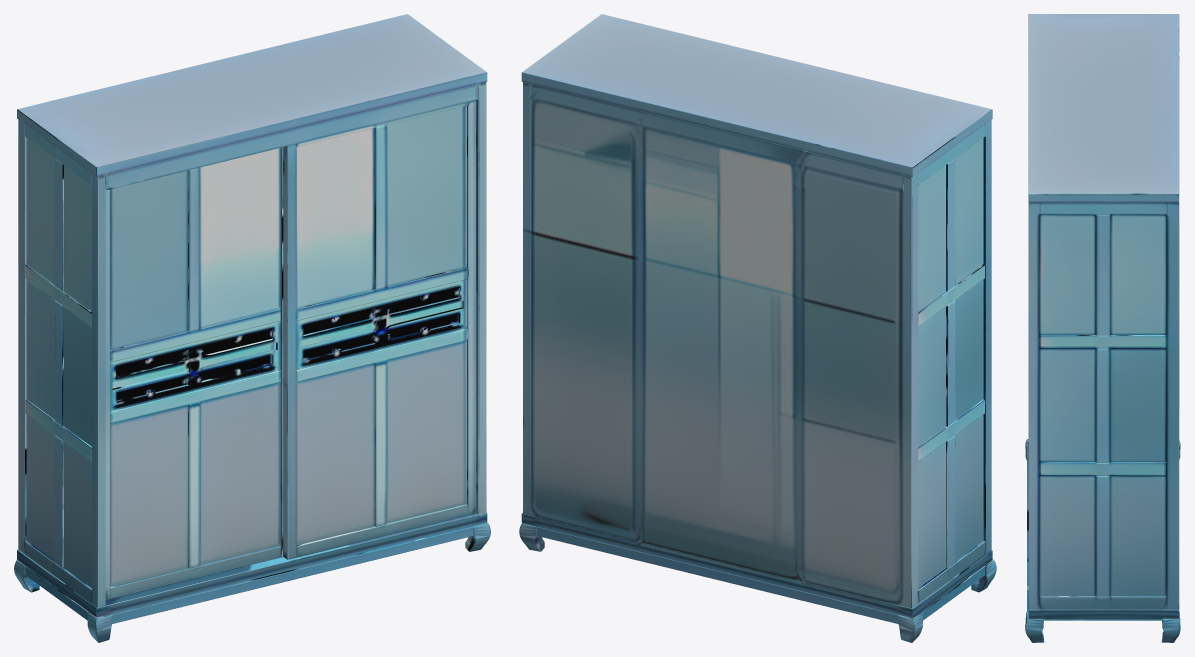
The model's file is edited_mesh.glb.
3 renders of one model, left to right at view 1: azimuth 30°, elevation 25°; view 2: azimuth 150°, elevation 25°; view 3: azimuth 270°, elevation 25°, orthographic. The views are drawn at different scales.
Visible parts, largest first — view 1: normalized_model.obj; view 2: normalized_model.obj; view 3: normalized_model.obj.
Part boxes in pixels (x1,y1,x2,y2): normalized_model.obj: (14, 14, 490, 642); normalized_model.obj: (519, 14, 996, 642); normalized_model.obj: (1025, 14, 1180, 642).
Bounding box in the file's own units: 1.21 × 1.4 × 0.4358.
1 material, 1 textured.
